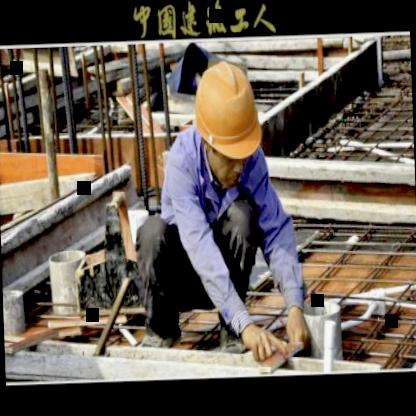helmet: (185, 53, 268, 186)
